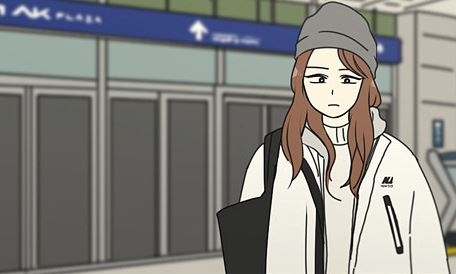hat: (291, 1, 380, 65)
